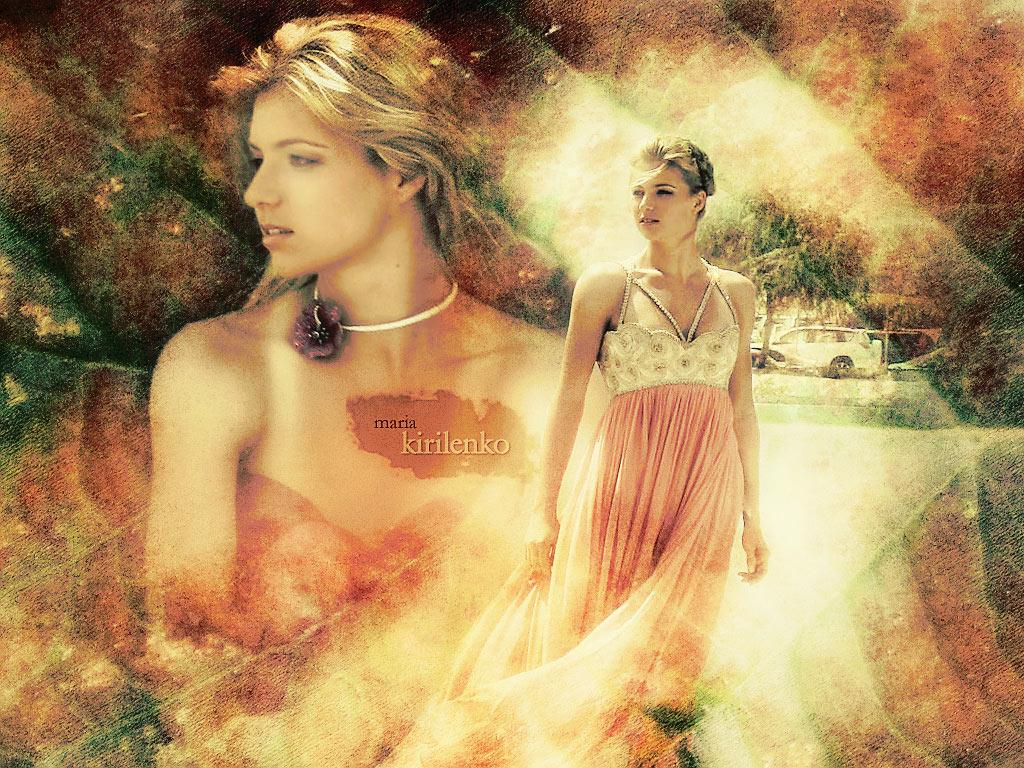face: (244, 84, 396, 272), (630, 160, 698, 238)
